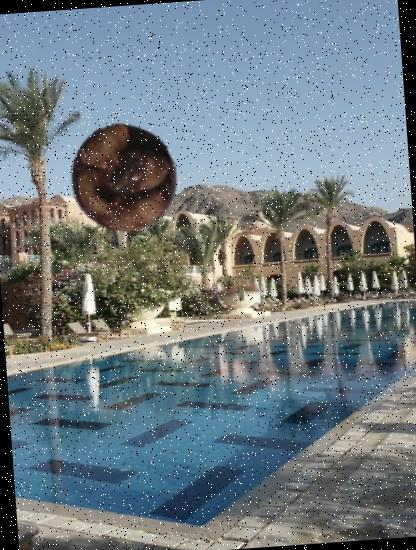Mangostan: (63, 118, 183, 238)
